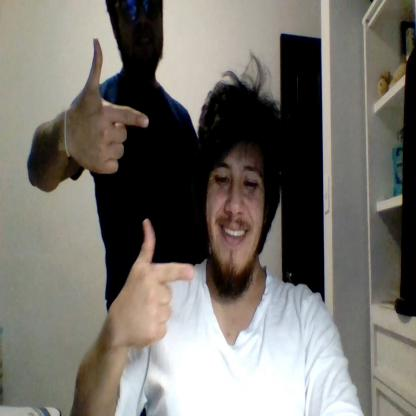G: (67, 37, 148, 174), (123, 220, 194, 344)
